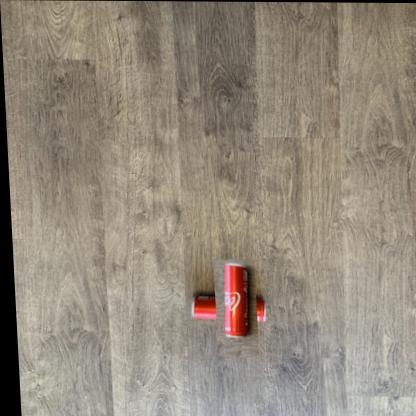trash: (223, 261, 249, 336), (224, 263, 248, 335), (193, 295, 215, 319)
